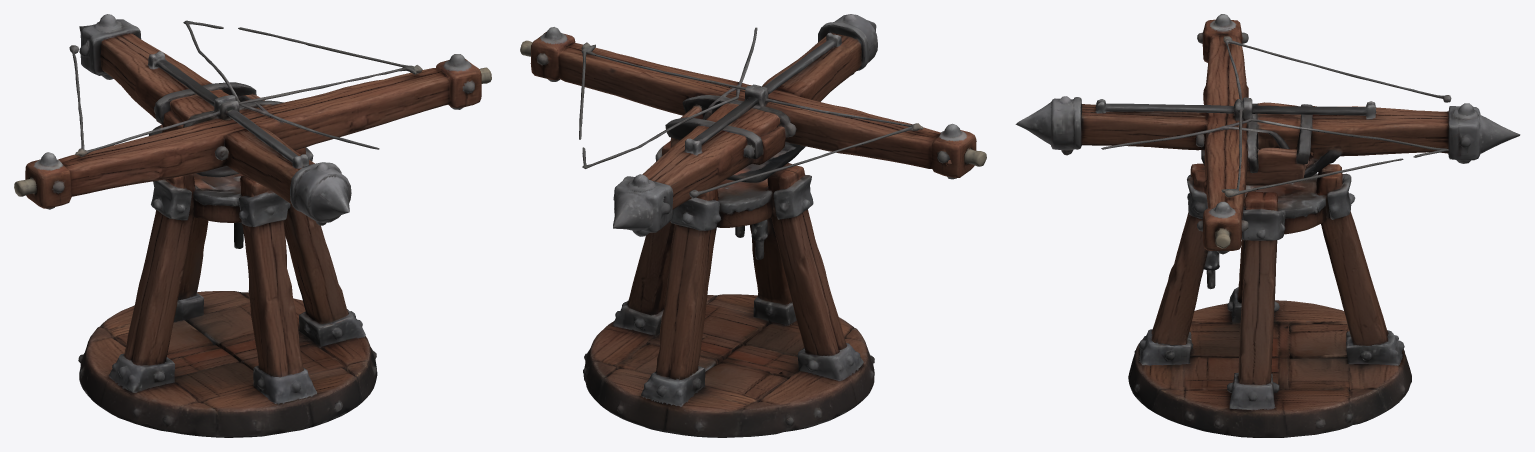
File: siege_ballista.glb
The picture shows the model from 3 angles, left to right: view 1: azimuth 30°, elevation 25°; view 2: azimuth 150°, elevation 25°; view 3: azimuth 270°, elevation 25°; orthographic projection. The views are drawn at different scales.
Parts seen in each view (by area): view 1: geometry_0; view 2: geometry_0; view 3: geometry_0.
Part boxes in pixels (x1,y1,x2,y2): geometry_0: [14, 14, 491, 437]; geometry_0: [520, 14, 986, 437]; geometry_0: [1015, 14, 1520, 437].
Bounding box in the file's own units: 1 × 0.5993 × 0.9921.
1 material, 1 textured.
